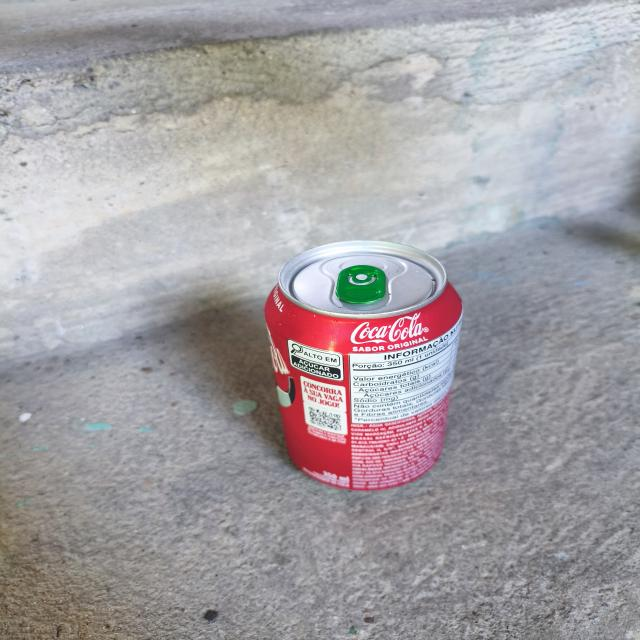Coca Cola: (263, 240, 463, 489)
